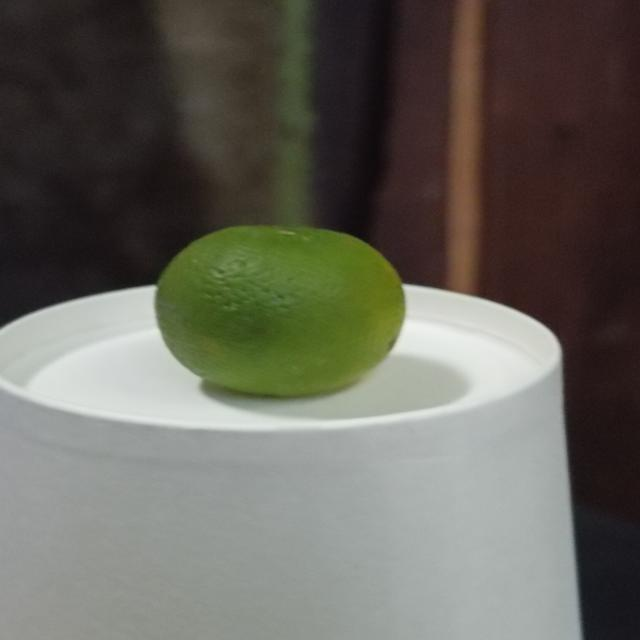heathy: (147, 218, 413, 398)
